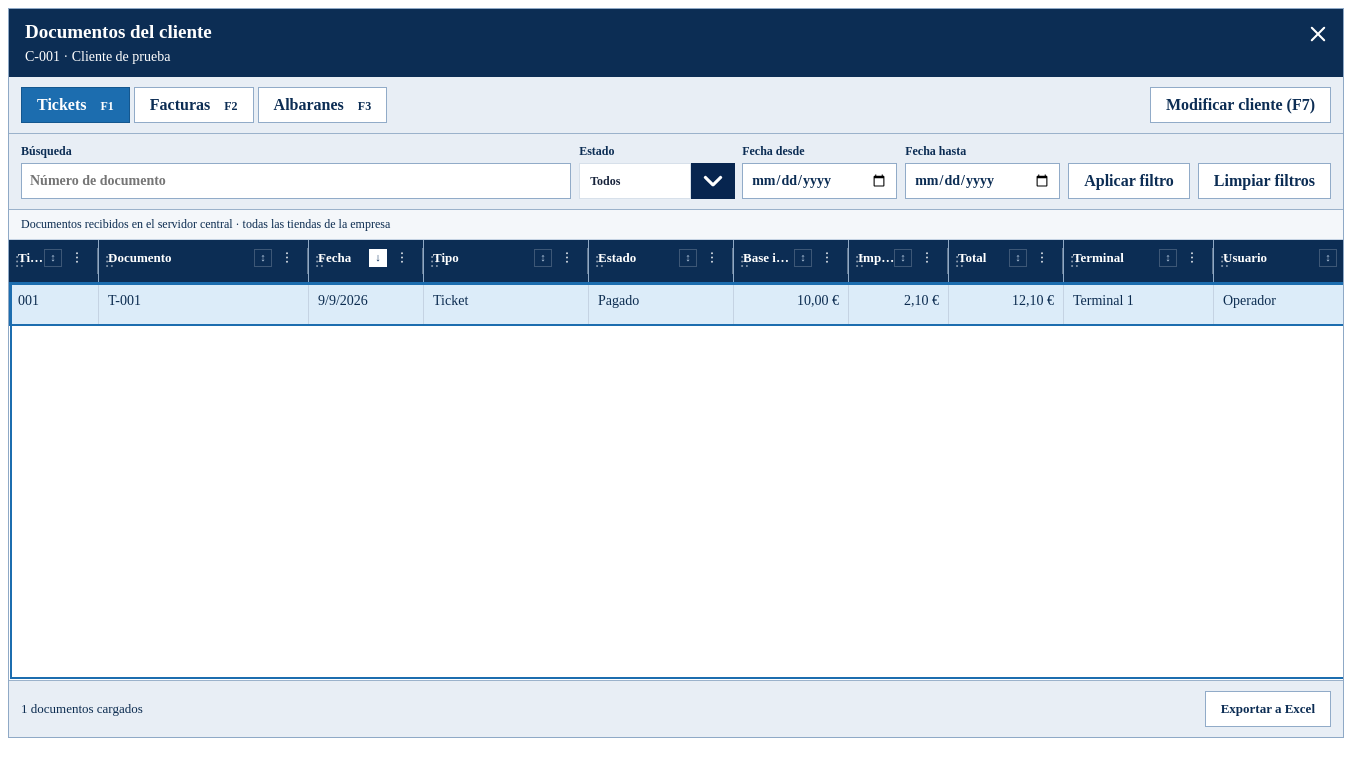
Scenario: CustomerDocumentsDialog › only offers Model 347 on the invoices tab with invoice access and shields parent shortcuts
Expected: the text "T-001" is shown, left=99, top=282, right=309, bottom=325
Expected: the button "Resumen anual" is not shown
Press F2
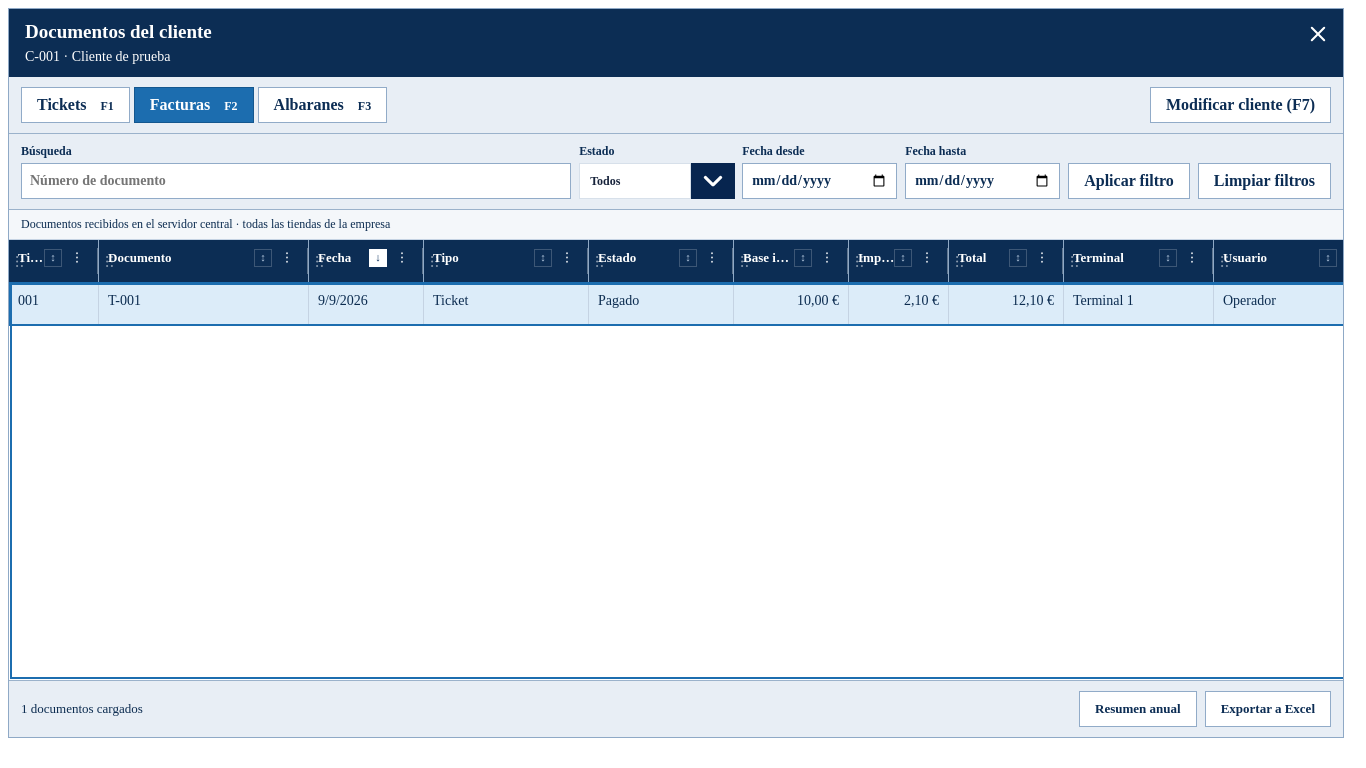
Expected: the text "T-001" is shown, left=99, top=282, right=309, bottom=325
Click the button "Resumen anual" at (1138,709), box left=1079, top=691, right=1197, bottom=727
(page scrolled)
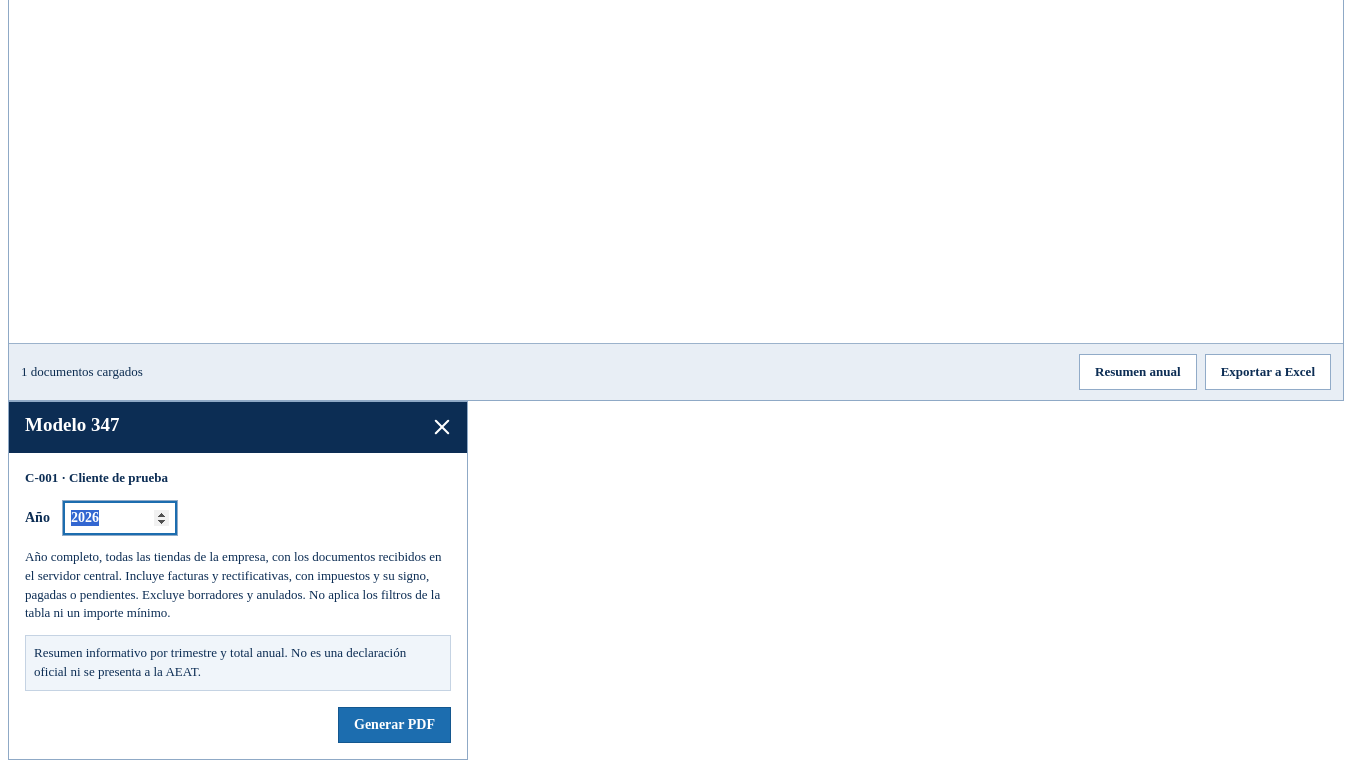
Press F7
Press F1
Now the dialog "Modelo 347" is shown, box left=8, top=401, right=468, bottom=760
Press Escape
(page scrolled)
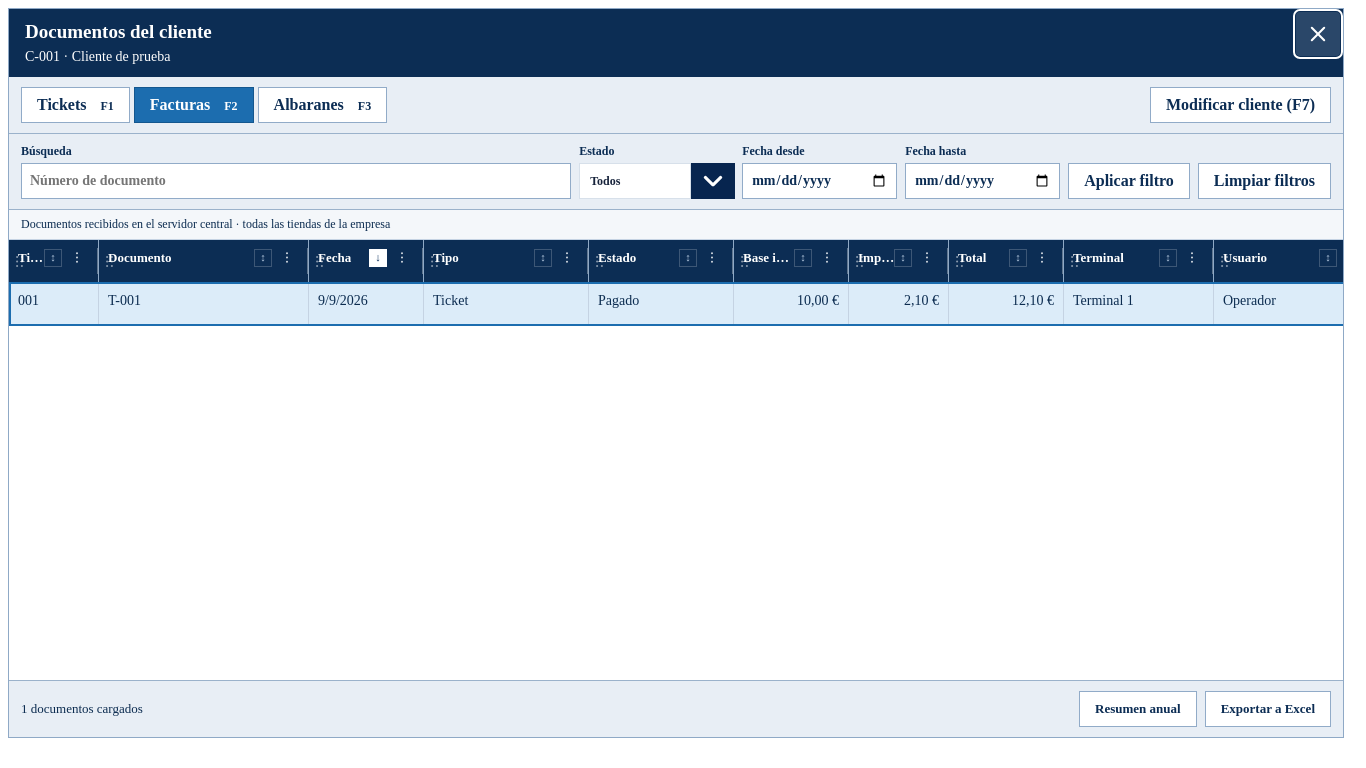
Press F3
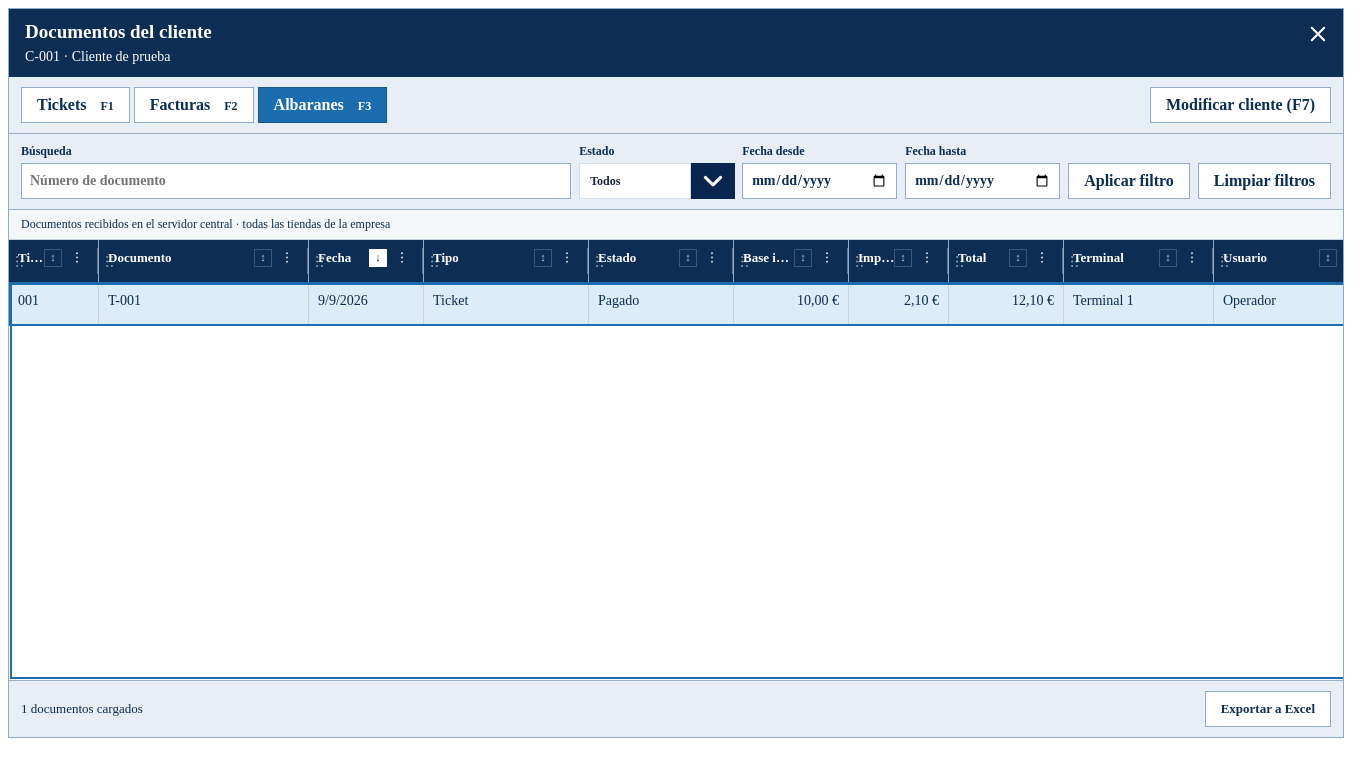
Expected: the text "T-001" is shown, left=99, top=282, right=309, bottom=325
Now the button "Resumen anual" is gone
